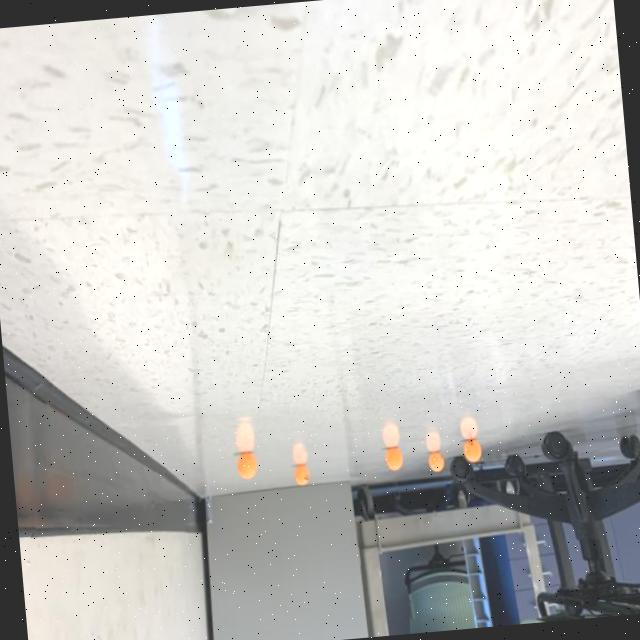ping-pong-ball: (234, 448, 258, 481), (461, 435, 482, 465), (382, 444, 403, 472), (290, 462, 310, 487), (426, 450, 444, 472)
